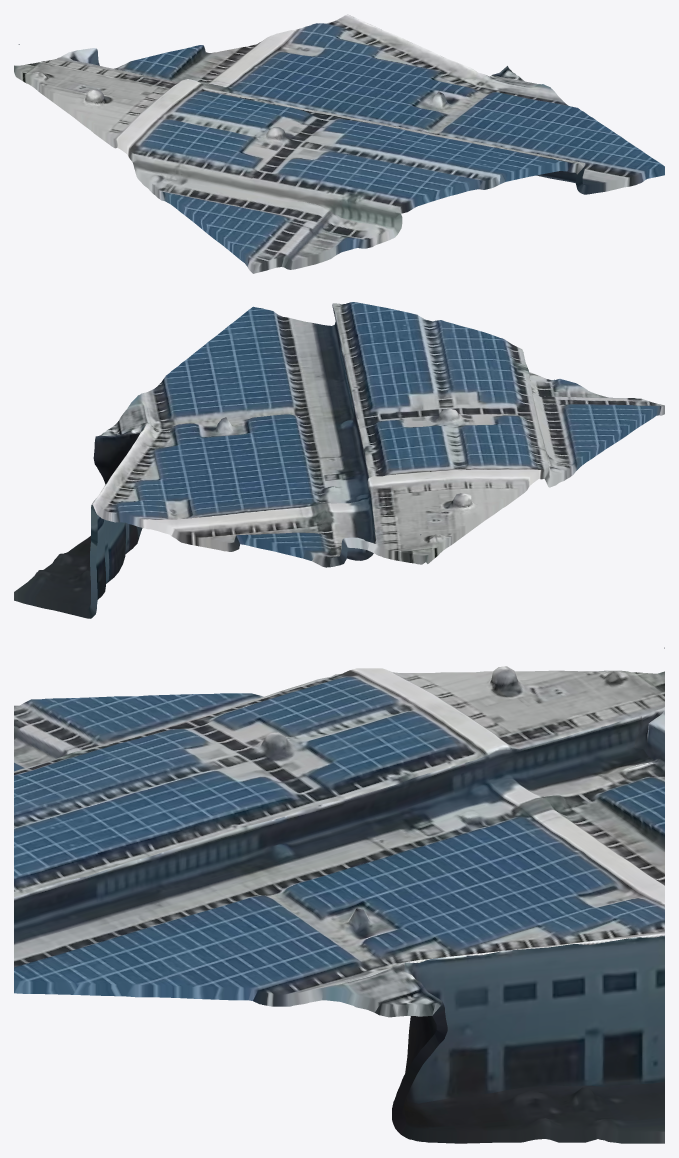
The model's file is z20-167776-405200-h0-yup-uvflip-v3-world.glb.
3 renders of one model, top to bottom at view 1: azimuth 30°, elevation 25°; view 2: azimuth 150°, elevation 25°; view 3: azimuth 270°, elevation 25°, orthographic. The views are drawn at different scales.
Bounding box in the file's own units: 30.16 × 11.64 × 30.32.
1 material, 1 textured.
